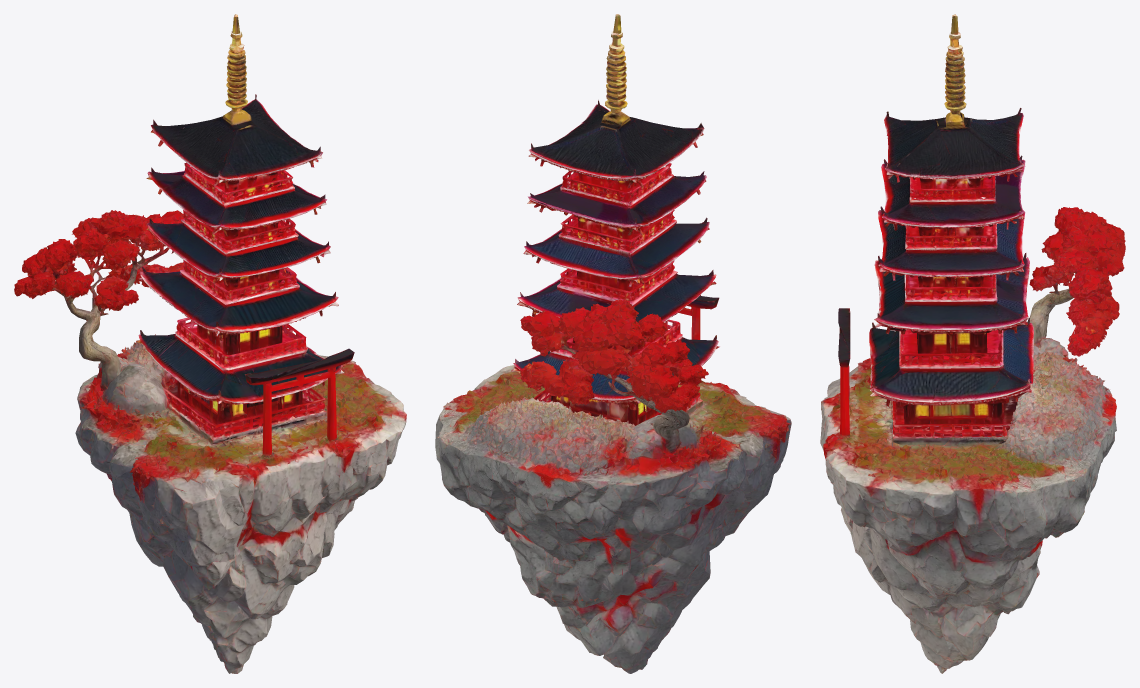
The model's file is neon.glb.
3 views of the same model, side by side, from view 1: azimuth 30°, elevation 25°; view 2: azimuth 150°, elevation 25°; view 3: azimuth 270°, elevation 25° (orthographic).
Visible parts, largest first — view 1: Mesh_0; view 2: Mesh_0; view 3: Mesh_0.
Boxes of the visible parts, x1,y1,x2,y2 form: Mesh_0: [14, 14, 406, 673]; Mesh_0: [435, 14, 791, 673]; Mesh_0: [820, 14, 1125, 673].
Bounding box in the file's own units: 0.8943 × 1.9 × 0.7946.
Materials: 1 (1 with a texture image).
